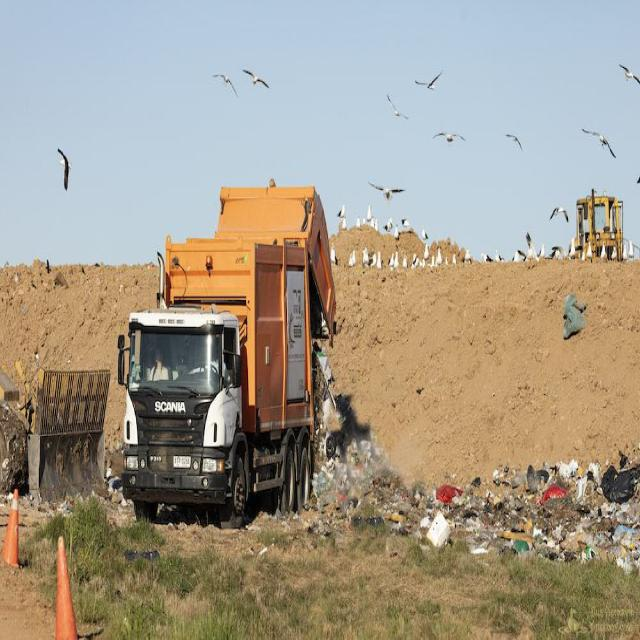trash: (323, 357, 634, 598)
